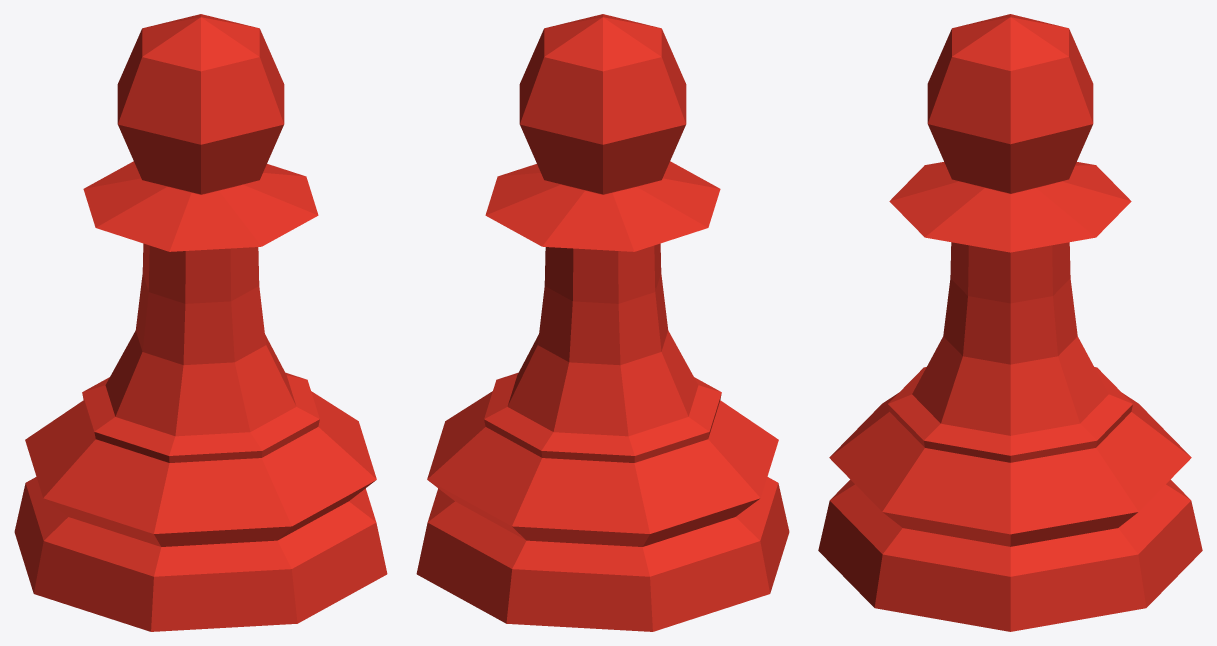
The model's file is pawn_0.glb.
The picture shows the model from 3 angles, left to right: view 1: azimuth 30°, elevation 25°; view 2: azimuth 150°, elevation 25°; view 3: azimuth 270°, elevation 25°; orthographic projection.
Parts seen in each view (by area): view 1: Pawn_0; view 2: Pawn_0; view 3: Pawn_0.
Boxes of the visible parts, x1=… form: Pawn_0: x1=14, y1=14, x2=387, y2=631; Pawn_0: x1=416, y1=14, x2=789, y2=631; Pawn_0: x1=818, y1=14, x2=1202, y2=631.
Bounding box in the file's own units: 0.15 × 0.2297 × 0.15.
